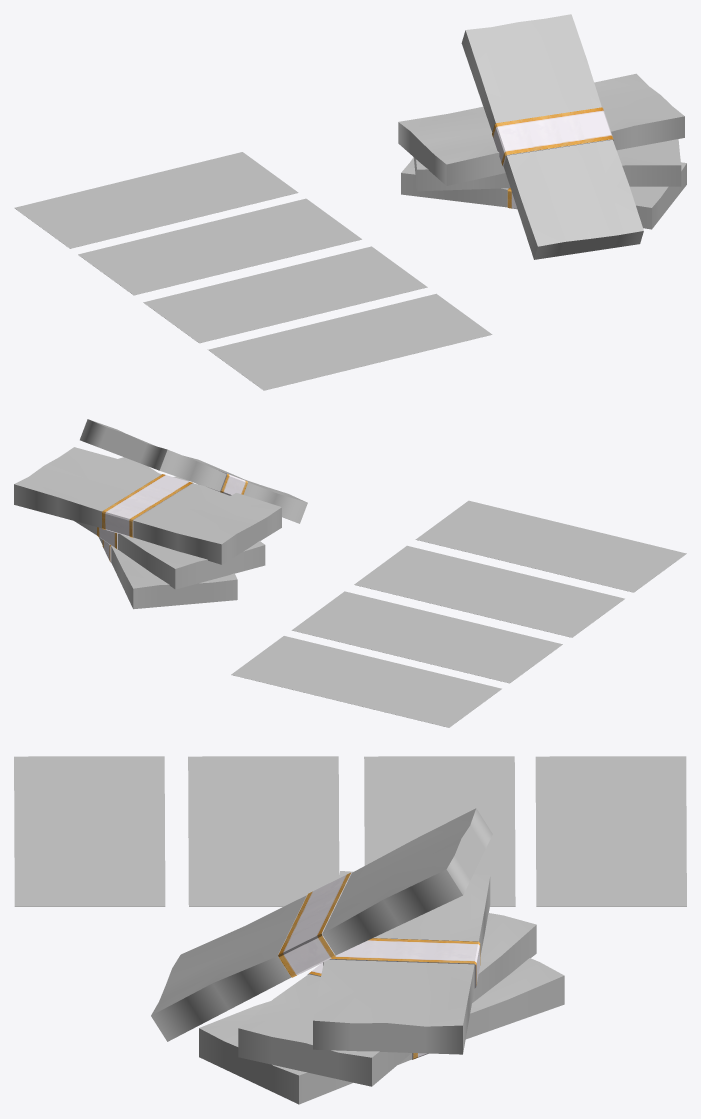
File: 2000Rs_Money_Pack.fbx
3 renders of one model, top to bottom at view 1: azimuth 30°, elevation 25°; view 2: azimuth 150°, elevation 25°; view 3: azimuth 270°, elevation 25°, orthographic. The views are drawn at different scales.
Visible parts, largest first — view 1: Money_Pack_hundred, Single_2002, Single_2005, Single_2006, Single_2001, Money_Pack_Five_hundred, Money_Pack_Thousand, Money_Pack_Two_Thousand; view 2: Money_Pack_Five_hundred, Single_2005, Single_2006, Single_2002, Single_2001, Money_Pack_hundred, Money_Pack_Thousand, Money_Pack_Two_Thousand; view 3: Money_Pack_hundred, Single_2001, Single_2005, Single_2006, Money_Pack_Five_hundred, Single_2002, Money_Pack_Thousand, Money_Pack_Two_Thousand.
Part boxes in pixels (x1,y1,x2,y2): Money_Pack_hundred: (461, 14, 643, 259); Single_2002: (78, 198, 361, 295); Single_2005: (208, 293, 492, 390); Single_2006: (143, 246, 427, 343); Single_2001: (14, 152, 298, 248); Money_Pack_Five_hundred: (398, 73, 684, 185); Money_Pack_Thousand: (413, 139, 681, 191); Money_Pack_Two_Thousand: (401, 157, 686, 229); Money_Pack_Five_hundred: (14, 447, 281, 564); Single_2005: (415, 500, 686, 592); Single_2006: (354, 545, 624, 637); Single_2002: (292, 591, 562, 683); Single_2001: (231, 636, 501, 727); Money_Pack_hundred: (80, 419, 307, 523); Money_Pack_Thousand: (74, 457, 265, 589); Money_Pack_Two_Thousand: (98, 476, 237, 609); Money_Pack_hundred: (151, 808, 492, 1041); Single_2001: (535, 756, 686, 906); Single_2005: (14, 756, 165, 906); Single_2006: (188, 756, 339, 906); Money_Pack_Five_hundred: (313, 871, 490, 1054); Single_2002: (364, 756, 515, 906); Money_Pack_Thousand: (238, 913, 536, 1086); Money_Pack_Two_Thousand: (199, 958, 564, 1104).
Bounding box in the file's own units: 5.05 × 1.29 × 4.01.
